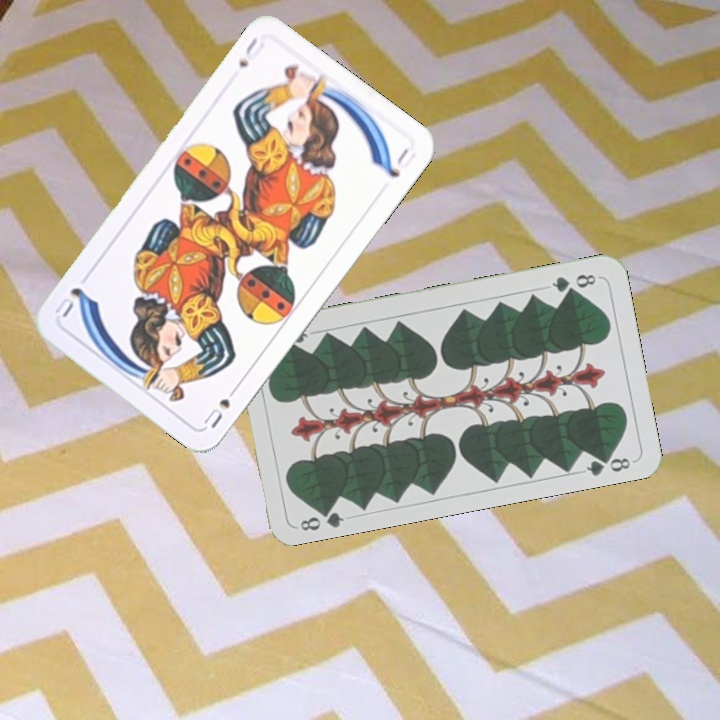G8: (296, 502, 347, 534), (547, 270, 599, 296)
SU: (199, 379, 243, 431), (234, 33, 268, 71)
